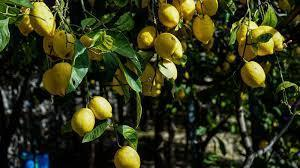lemon: (30, 1, 56, 36), (139, 64, 164, 96), (253, 26, 284, 51), (248, 29, 274, 56), (71, 108, 95, 137), (241, 61, 266, 88), (53, 29, 74, 60), (43, 68, 66, 96), (193, 14, 214, 44), (114, 146, 140, 168), (89, 96, 112, 119), (17, 6, 34, 36), (154, 33, 176, 56), (158, 3, 179, 27), (173, 0, 194, 24), (238, 20, 258, 44), (137, 25, 156, 48), (239, 37, 257, 61), (158, 59, 177, 79), (52, 62, 72, 80), (196, 0, 218, 16), (43, 34, 56, 54), (172, 40, 183, 59)
